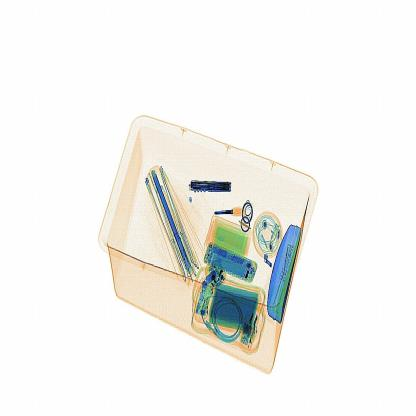scissors: (187, 178, 237, 194)
